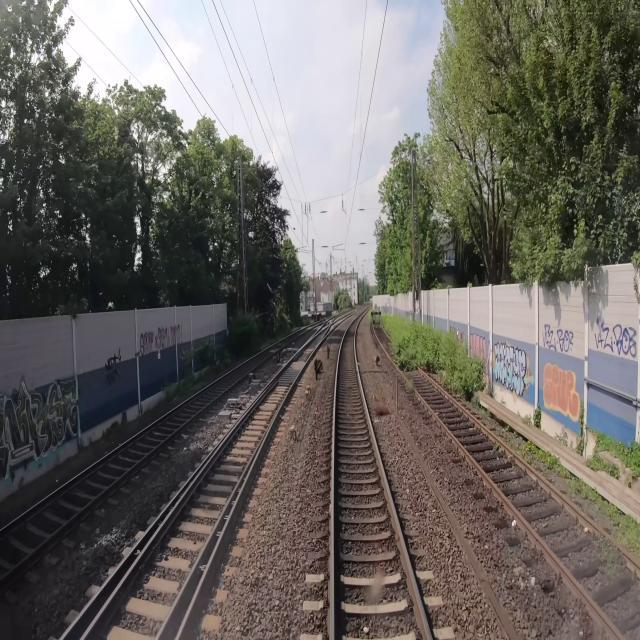Plant: (515, 443, 639, 560), (381, 316, 466, 401)
